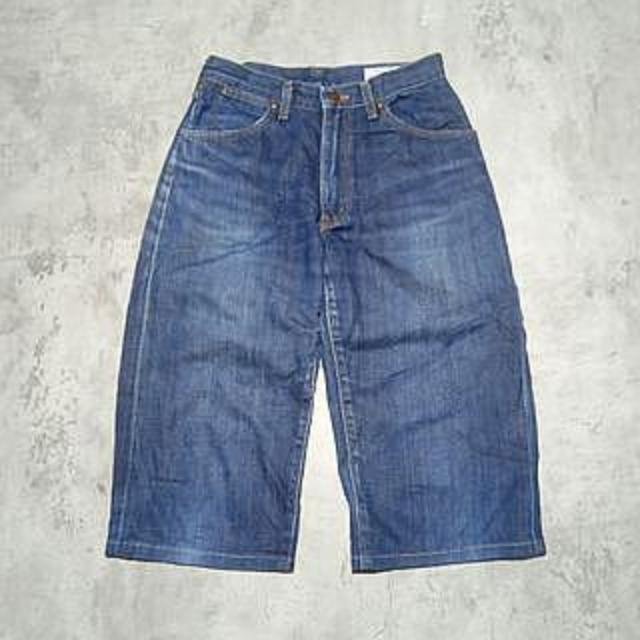TROUSER: (99, 40, 579, 579)
